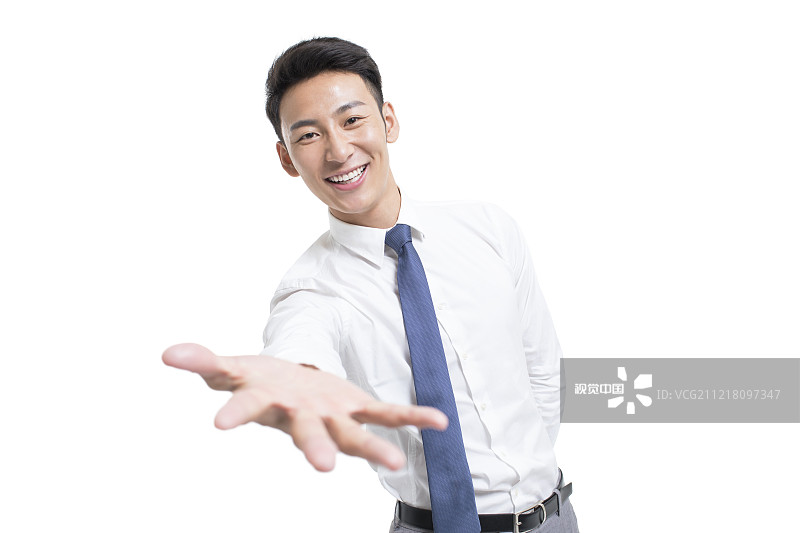no-phone: (129, 316, 468, 502)
